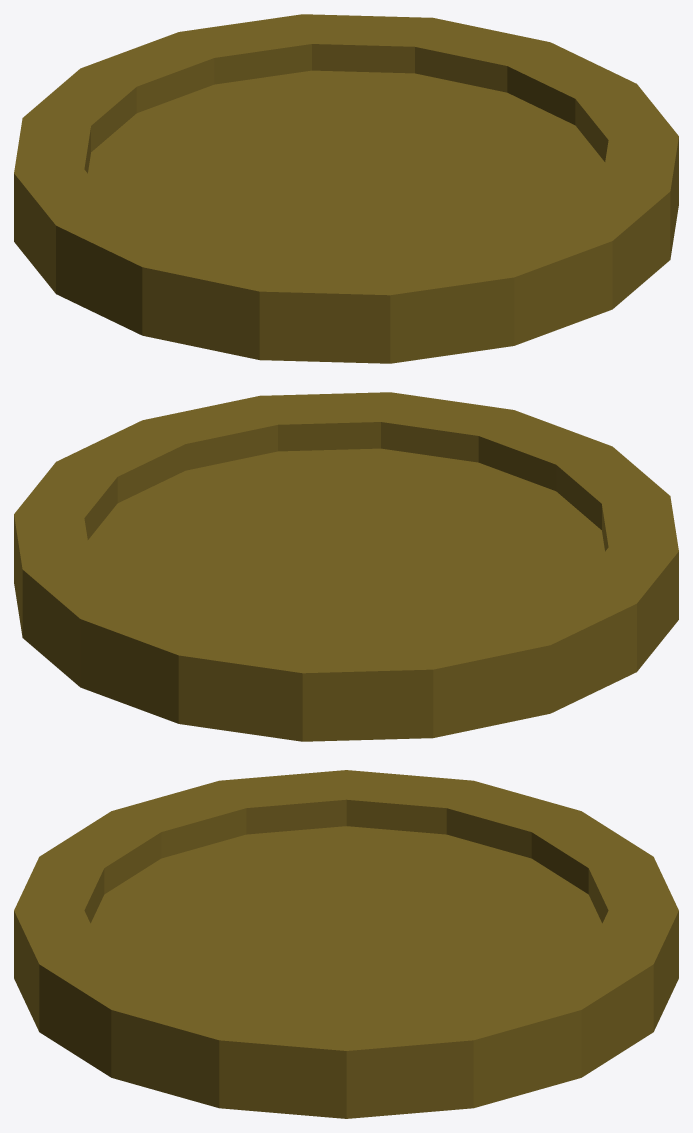
The model's file is coin03.gltf.
3 views of the same model, one above another, from view 1: azimuth 30°, elevation 25°; view 2: azimuth 150°, elevation 25°; view 3: azimuth 270°, elevation 25° (orthographic).
Parts seen in each view (by area): view 1: Cylinder; view 2: Cylinder; view 3: Cylinder.
Boxes of the visible parts, box(x1,y1,x2,y2) form: Cylinder: box(14, 14, 678, 363); Cylinder: box(14, 392, 678, 741); Cylinder: box(14, 770, 678, 1118).
Bounding box in the file's own units: 0.04 × 0.00451 × 0.04.
1 material, 1 textured.
